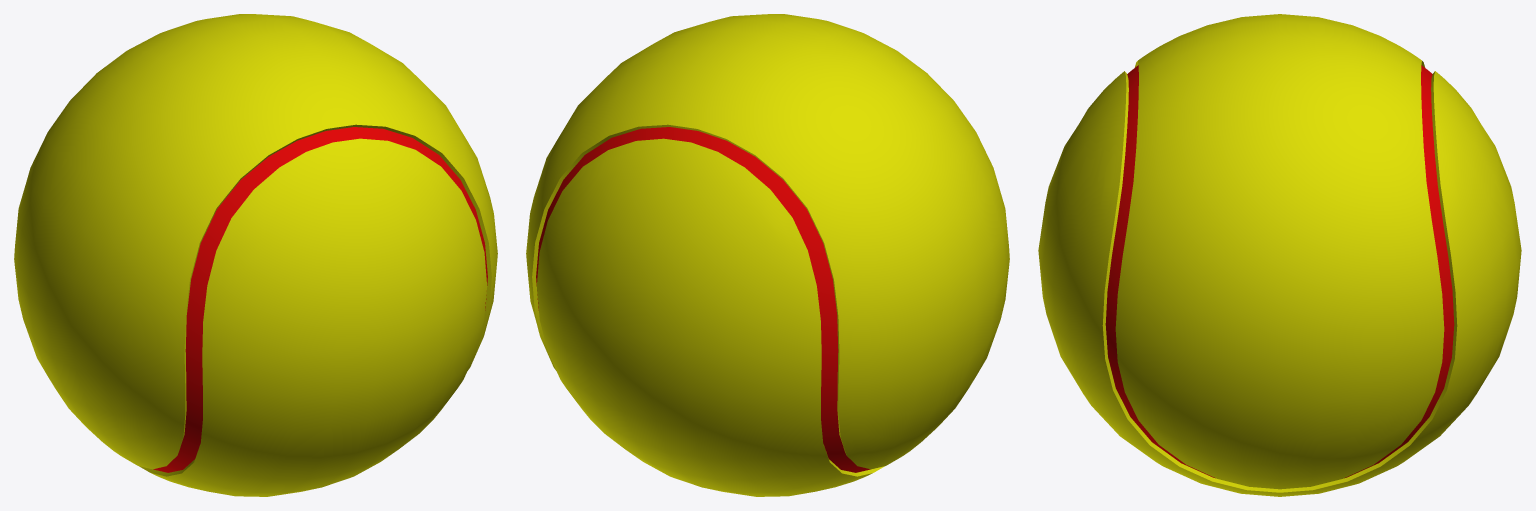
3 renders of one model, left to right at view 1: azimuth 30°, elevation 25°; view 2: azimuth 150°, elevation 25°; view 3: azimuth 270°, elevation 25°, orthographic.
Visible parts, largest first — view 1: pPlatonic1; view 2: pPlatonic1; view 3: pPlatonic1.
Part boxes in pixels (bbox=[...]): pPlatonic1: bbox=[14, 14, 497, 496]; pPlatonic1: bbox=[526, 14, 1009, 496]; pPlatonic1: bbox=[1038, 14, 1521, 496].
Size of the model in its own units: 2.37 by 2.37 by 2.37.
